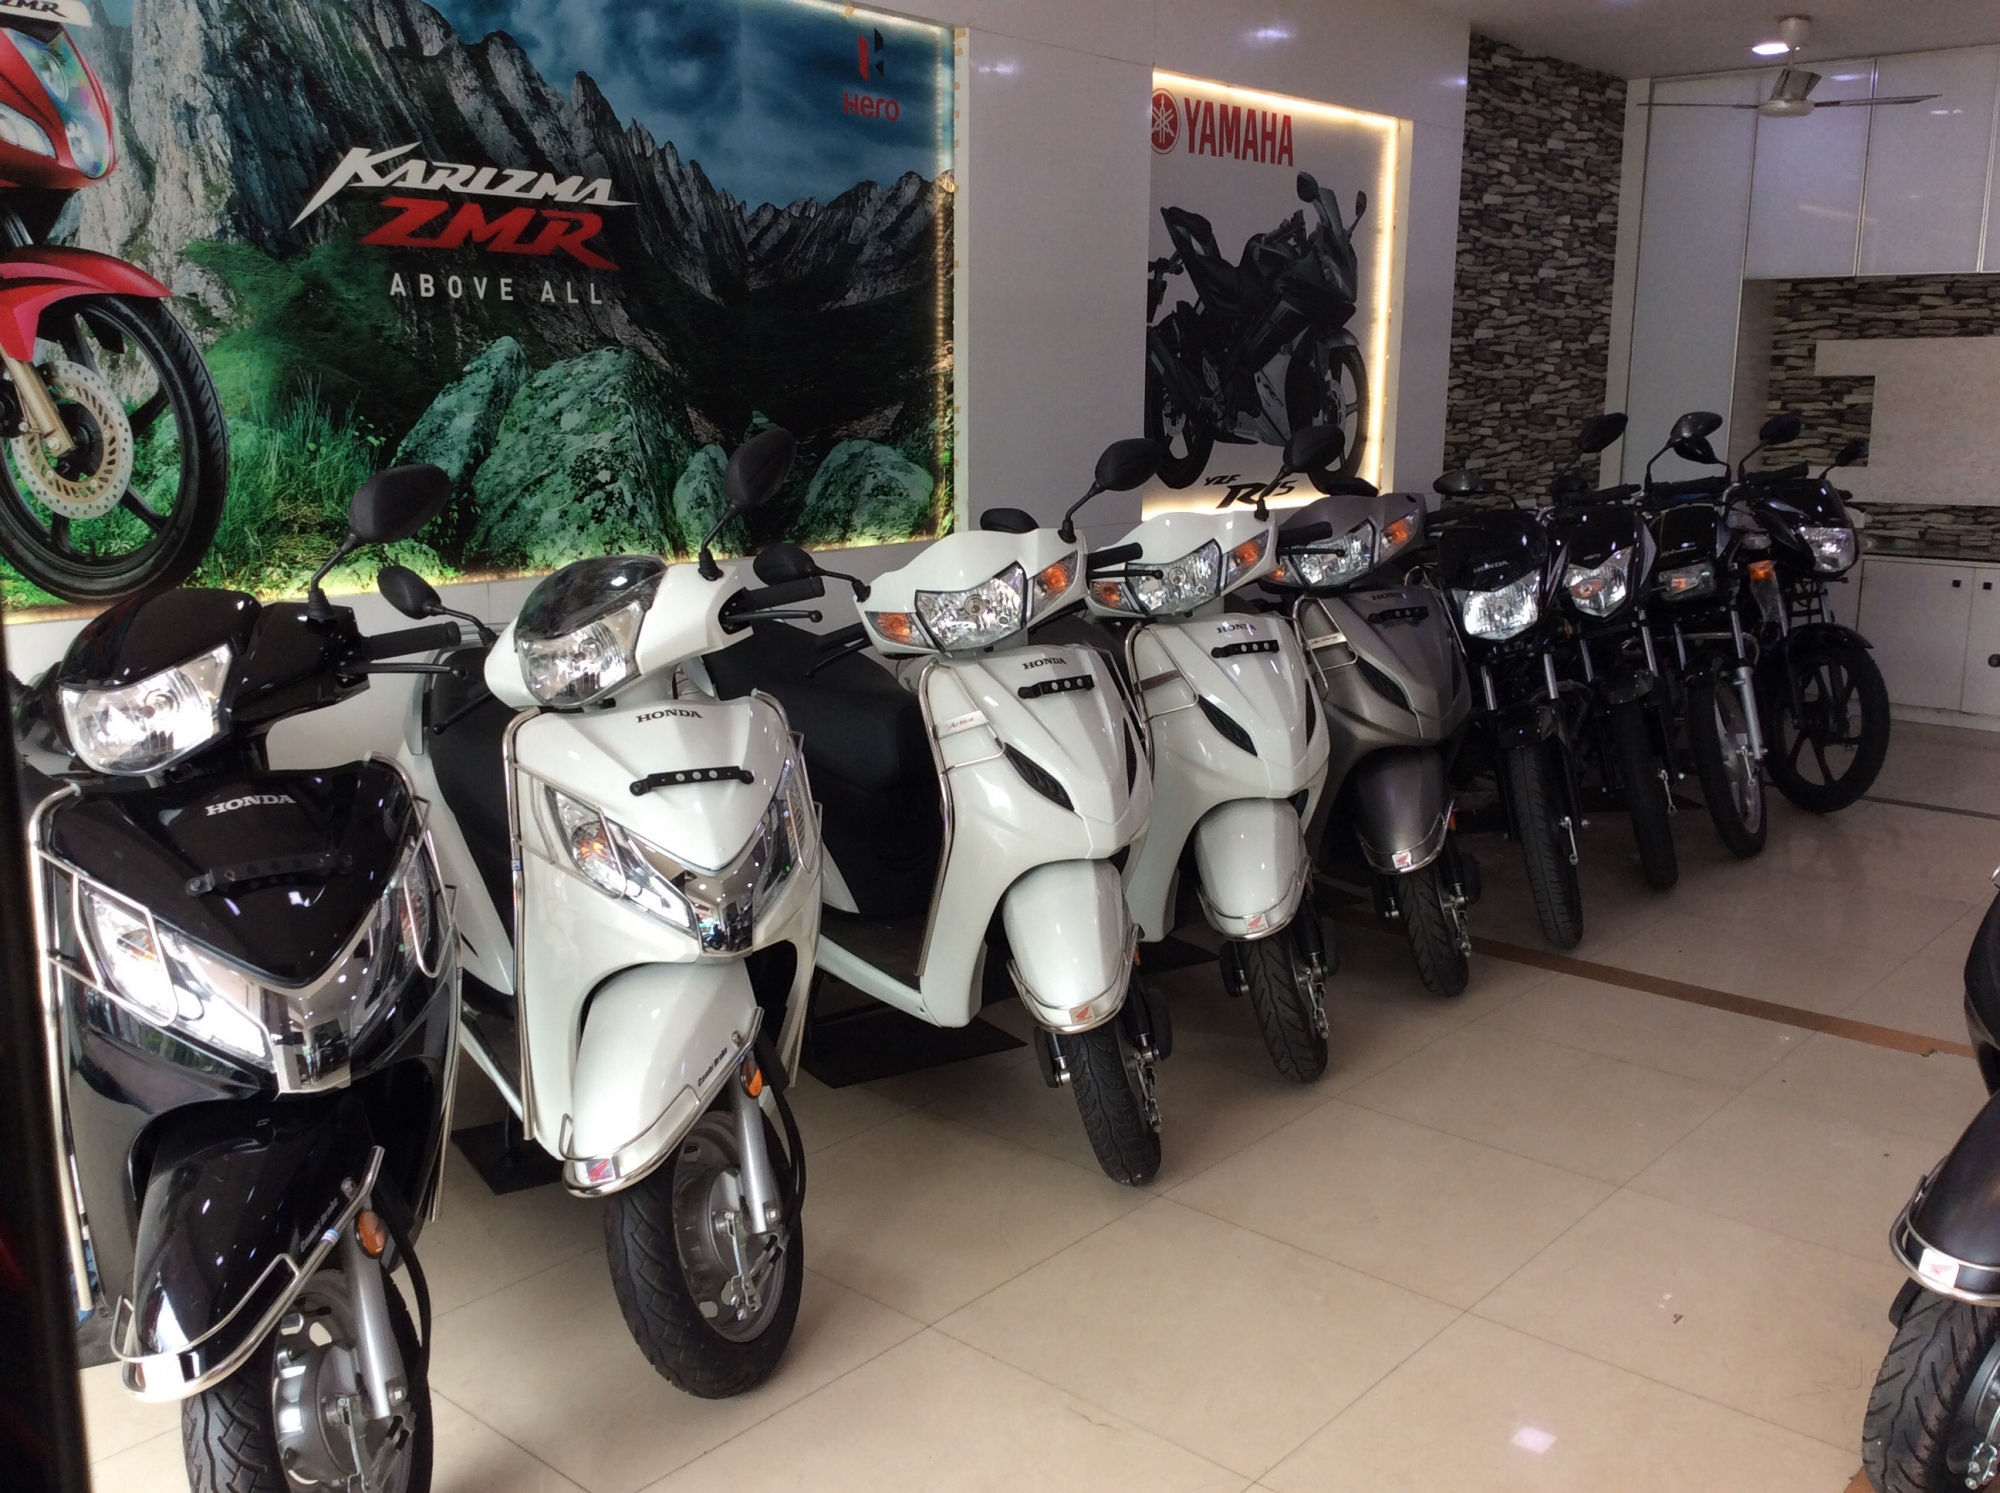Bike: (2, 599, 494, 1488), (403, 605, 880, 1399), (827, 524, 1184, 1226), (1096, 508, 1388, 1109), (1253, 492, 1526, 1005)
